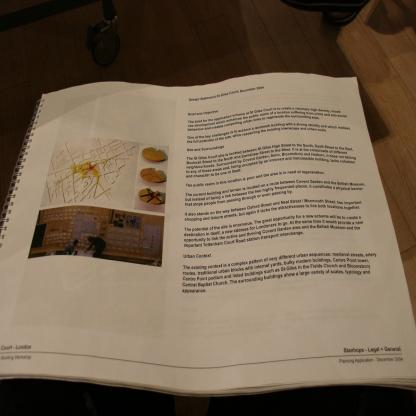book: (0, 61, 406, 398)
